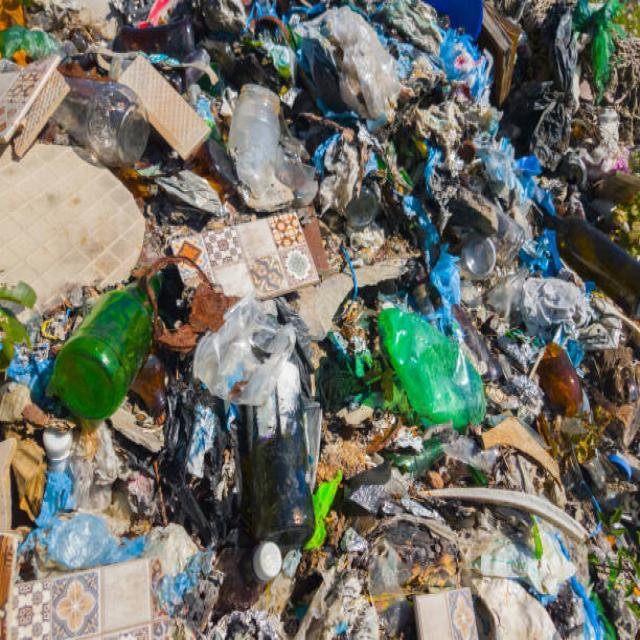glass: (62, 60, 162, 184), (71, 277, 154, 408), (232, 77, 317, 199), (497, 212, 528, 276)
plastic: (377, 256, 523, 440), (216, 527, 310, 600)
